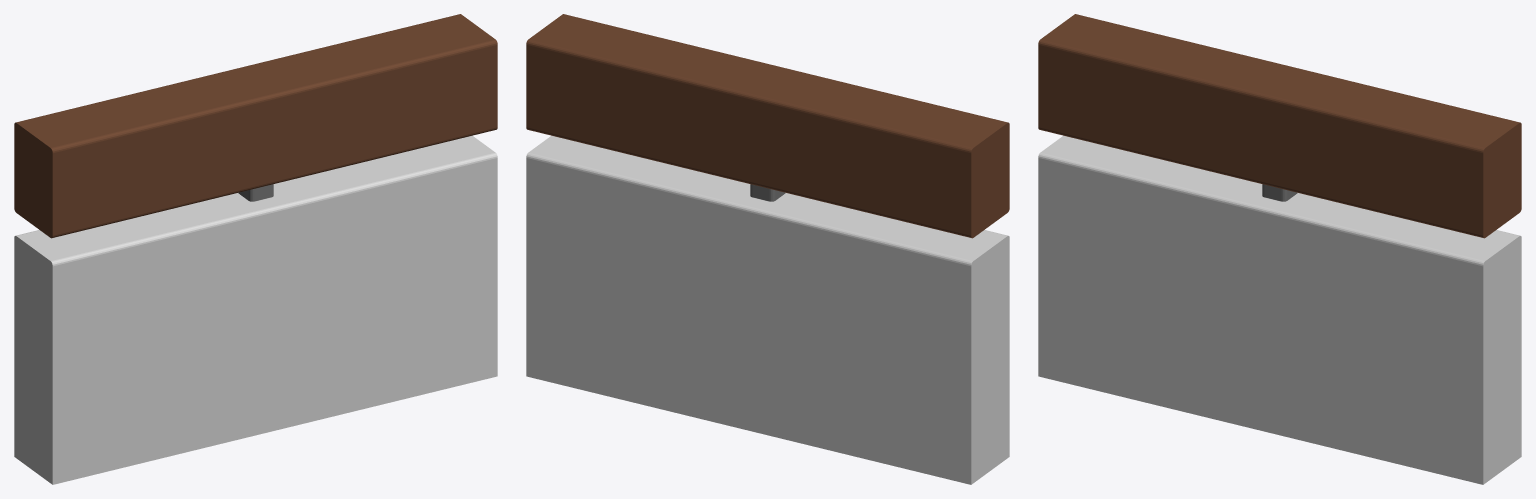
The model's file is Wood Railing.fbx.
3 views of the same model, side by side, from view 1: azimuth 30°, elevation 25°; view 2: azimuth 150°, elevation 25°; view 3: azimuth 330°, elevation 25° (orthographic).
Visible parts, largest first — view 1: wood railing; view 2: wood railing; view 3: wood railing.
Part boxes in pixels (box(x1,y1,x2,y2)): wood railing: box(14, 14, 497, 484); wood railing: box(526, 14, 1009, 484); wood railing: box(1038, 14, 1521, 484).
Size of the model in its own units: 200 by 144 by 30.
